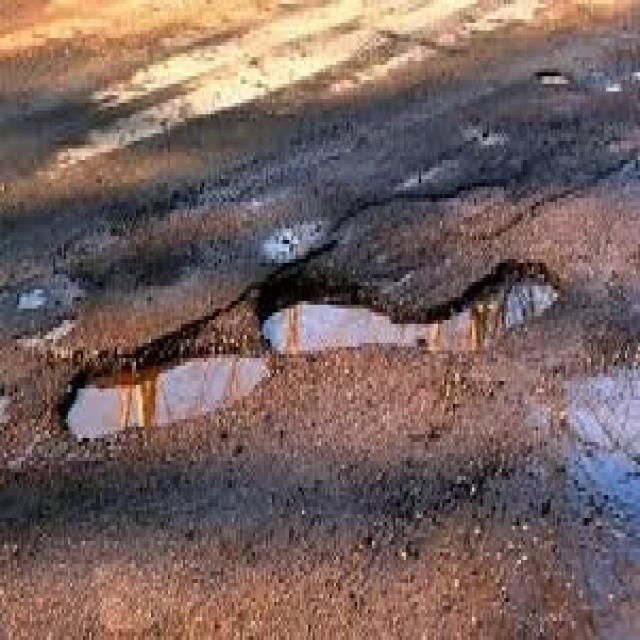Pothole: (34, 194, 576, 590)
